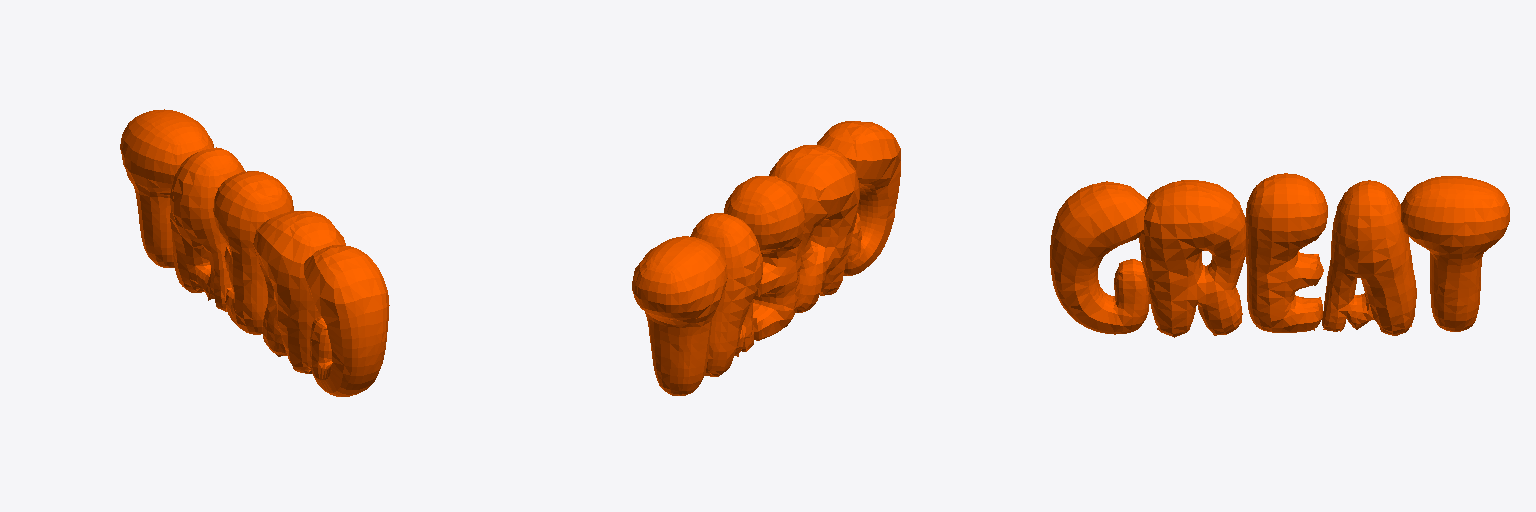
File: 01_great.obj
3 views of the same model, side by side, from view 1: azimuth 30°, elevation 25°; view 2: azimuth 150°, elevation 25°; view 3: azimuth 270°, elevation 25° (orthographic).
Visible parts, largest first — view 1: _great:great; view 2: _great:great; view 3: _great:great.
Part boxes in pixels (left/top/right/bottom): _great:great: left=120, top=109, right=389, bottom=396; _great:great: left=632, top=121, right=900, bottom=395; _great:great: left=1050, top=173, right=1509, bottom=337.
Size of the model in its own units: 0.1345 by 0.2583 by 0.6888.